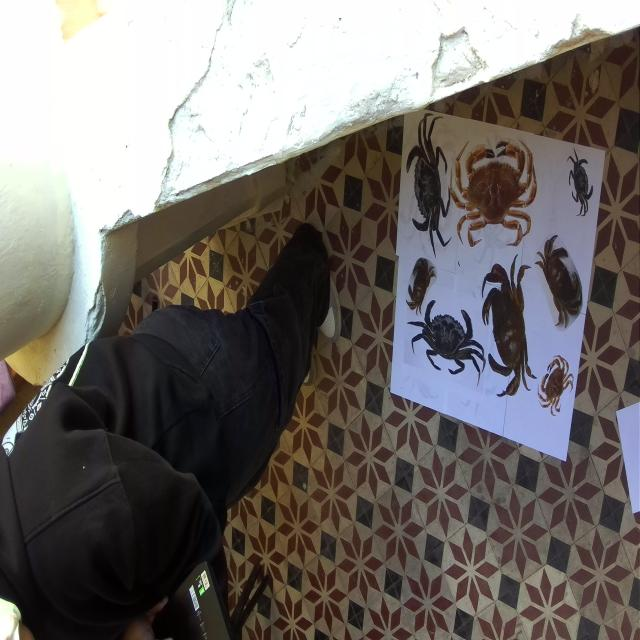European_Green_Crab: (403, 288, 492, 389), (402, 109, 456, 265), (563, 141, 598, 222)
